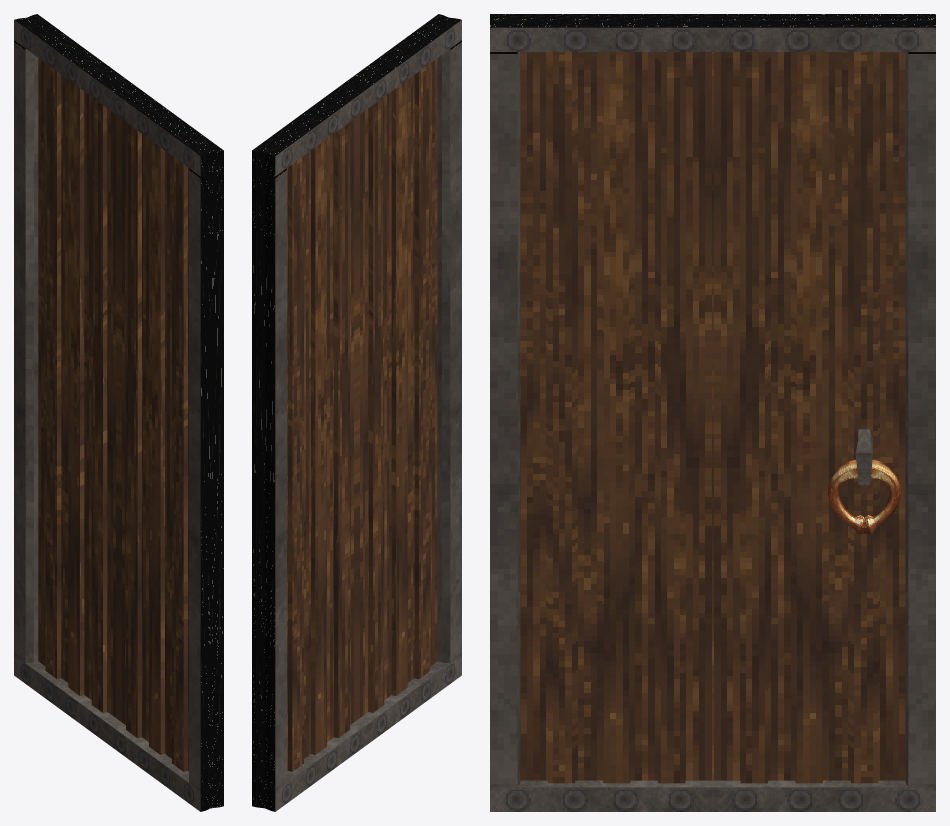
File: door.glb
3 renders of one model, left to right at view 1: azimuth 30°, elevation 25°; view 2: azimuth 150°, elevation 25°; view 3: azimuth 270°, elevation 25°, orthographic. The views are drawn at different scales.
Parts seen in each view (by area): view 1: Plane; view 2: Plane; view 3: Plane, Cube.
Boxes of the visible parts, x1,y1,x2,y2 form: Plane: (14, 14, 223, 811); Plane: (252, 14, 461, 811); Plane: (490, 14, 935, 811); Cube: (827, 429, 900, 534).
Bounding box in the file's own units: 0.3287 × 5.31 × 2.74.
Materials: 2 (2 with a texture image).
